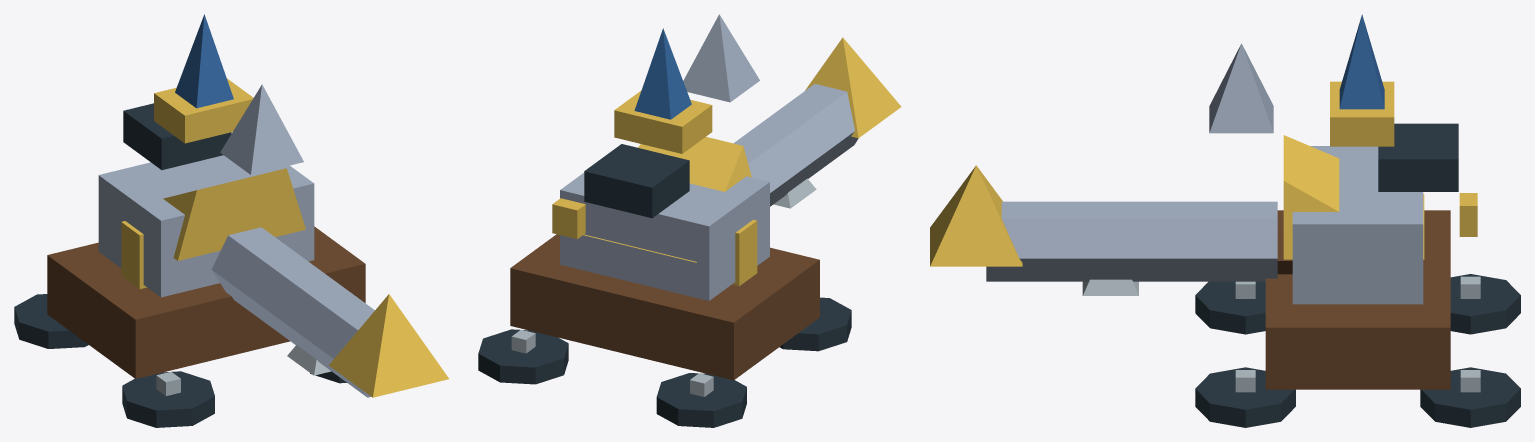
Rendered from battering-ram.obj.
3 views of the same model, side by side, from view 1: azimuth 30°, elevation 25°; view 2: azimuth 150°, elevation 25°; view 3: azimuth 270°, elevation 25° (orthographic). The views are drawn at different scales.
Parts seen in each view (by area): view 1: siege; view 2: siege; view 3: siege.
Part boxes in pixels (<box>): siege: <box>14,14,448,427</box>; siege: <box>478,14,901,427</box>; siege: <box>930,14,1520,427</box>.
Bounding box in the file's own units: 1.6 × 1.9 × 2.94.
